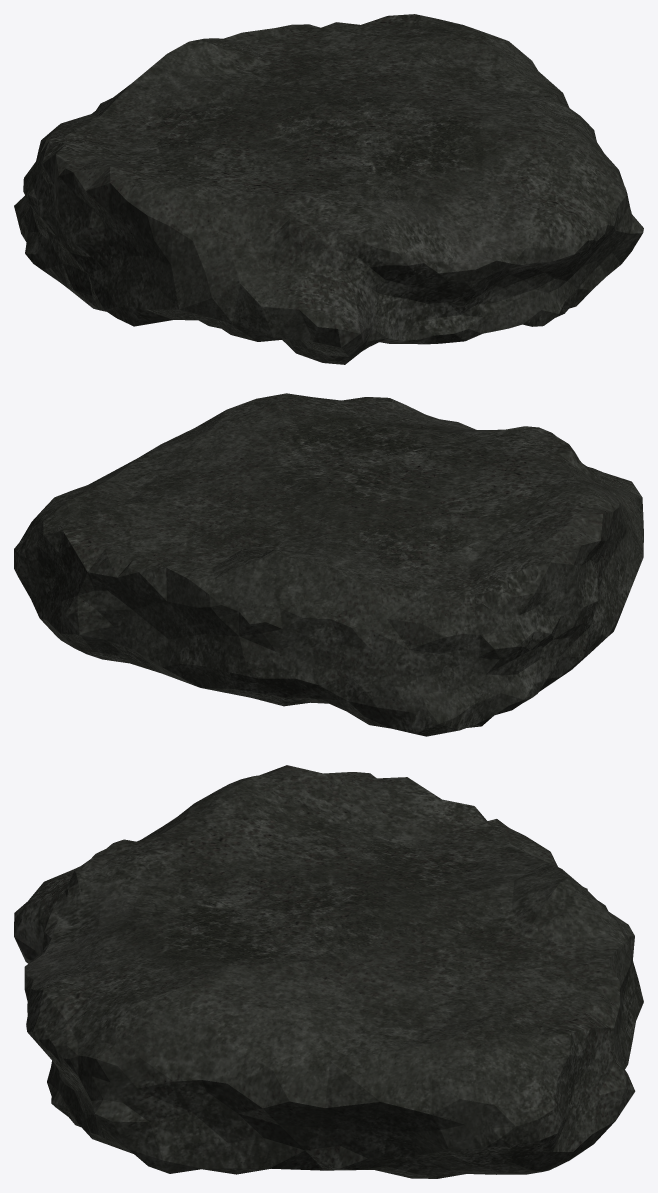
File: rock.obj
3 renders of one model, top to bottom at view 1: azimuth 30°, elevation 25°; view 2: azimuth 150°, elevation 25°; view 3: azimuth 270°, elevation 25°, orthographic. The views are drawn at different scales.
Parts seen in each view (by area): view 1: Rock07-Base; view 2: Rock07-Base; view 3: Rock07-Base.
Boxes of the visible parts, box(x1,y1,x2,y2) form: Rock07-Base: box(14, 14, 643, 364); Rock07-Base: box(14, 393, 643, 736); Rock07-Base: box(14, 765, 643, 1178).
Bounding box in the file's own units: 83.27 × 25.33 × 78.54.
